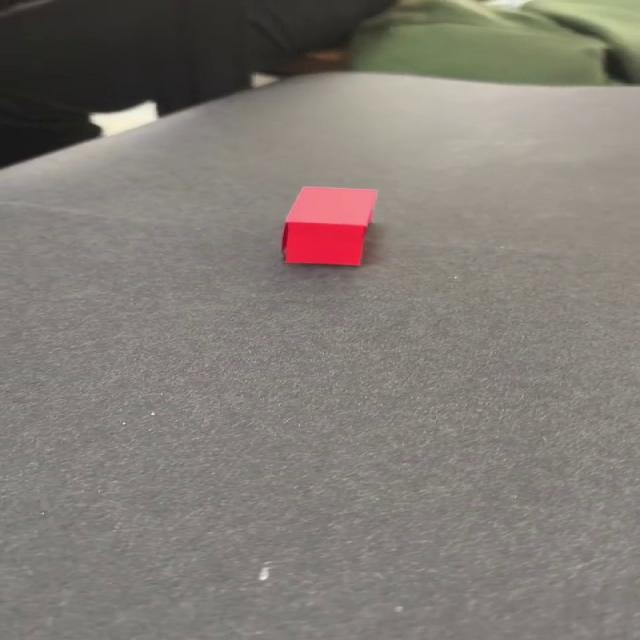red block: (280, 185, 377, 266)
